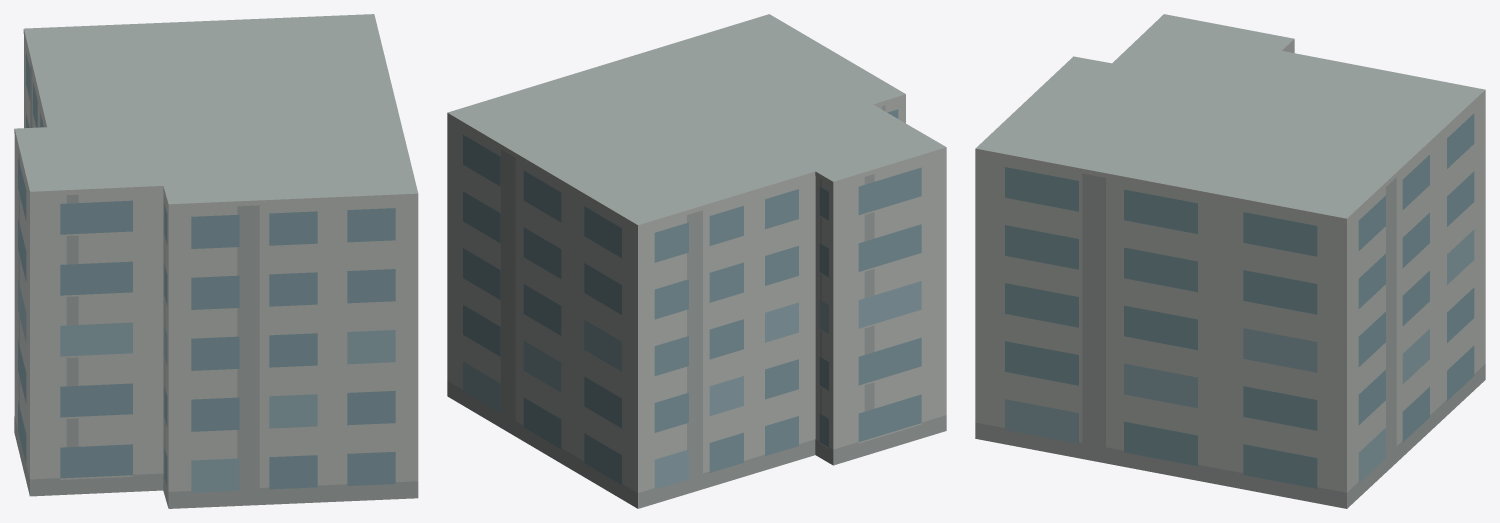
File: survey-upis-32532597.glb
The picture shows the model from 3 angles, left to right: view 1: azimuth 30°, elevation 25°; view 2: azimuth 150°, elevation 25°; view 3: azimuth 270°, elevation 25°; orthographic projection. The views are drawn at different scales.
Parts seen in each view (by area): view 1: survey-upis-32532597.tmp; view 2: survey-upis-32532597.tmp; view 3: survey-upis-32532597.tmp.
Boxes of the visible parts, x1,y1,x2,y2 form: survey-upis-32532597.tmp: (14,14,418,508); survey-upis-32532597.tmp: (447,14,946,508); survey-upis-32532597.tmp: (975,14,1485,508).
Size of the model in its own units: 22.4 by 14.8 by 23.59.
